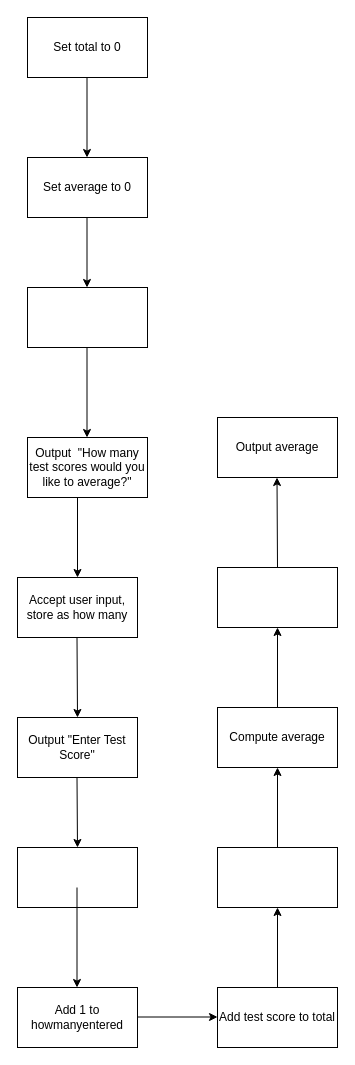
Image size: 355x1065. Some labels were removed from this diagram. Here are the shapes that lost their labels. From the top down, the box of each, then its label:
(26, 286, 148, 348): Set howmanyentered to 0
(216, 566, 338, 628): Output "the average for the test scores you entered is:"
(16, 846, 138, 908): Accept user input as test score
(216, 846, 338, 908): If howmanyentered < repeat steps 6-9
